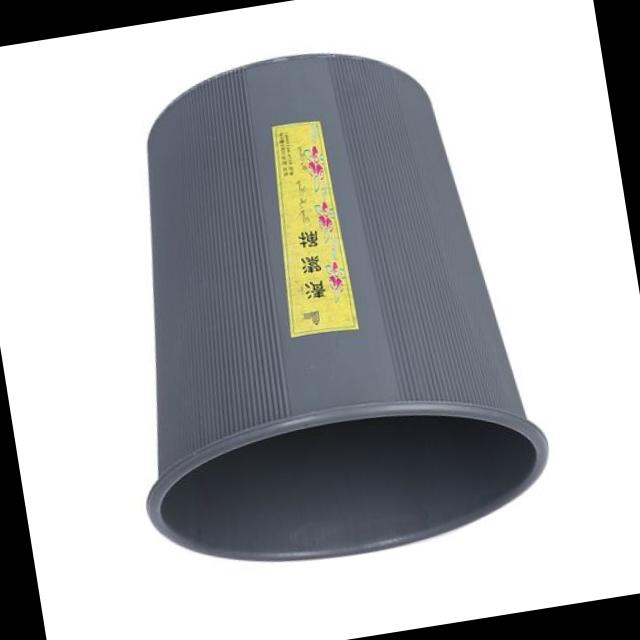dustbin: (80, 19, 568, 592)
